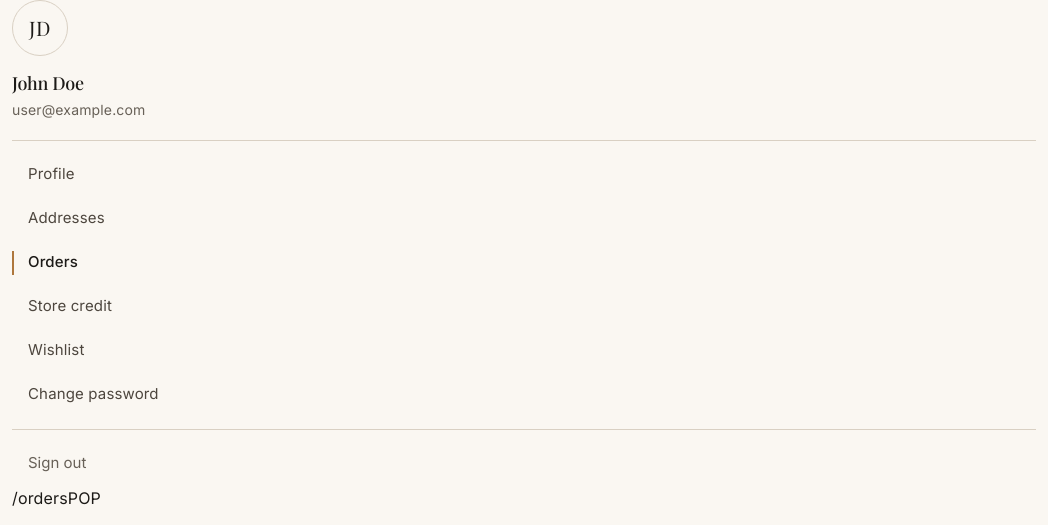
Test case: from another account page, a Profile tab is a normal navigation
This screenshot has width=1048, height=525.
Click the link "Store credit" at (70, 306), box [28,296,112,315]
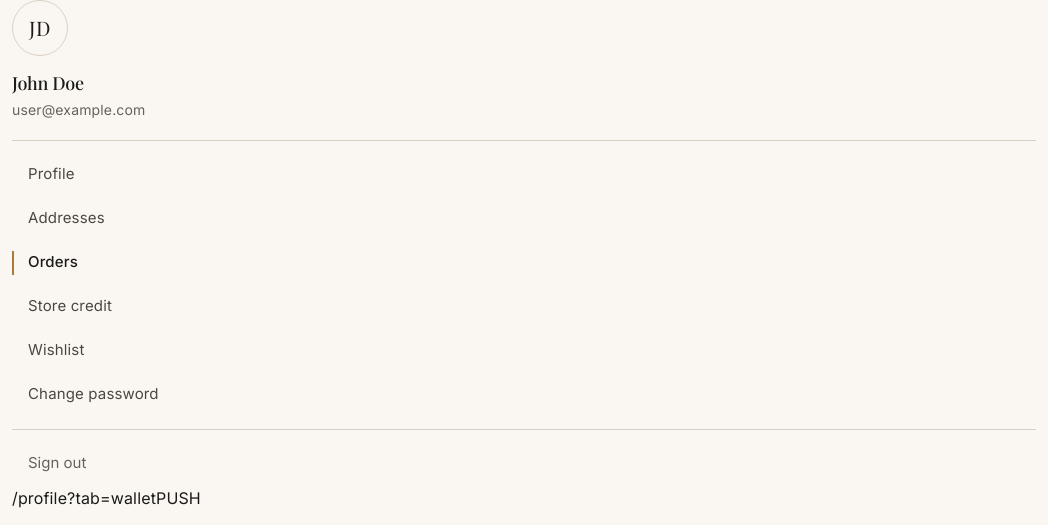
Now the text with test id "location" reads "/profile?tab=wallet", box [12,488,156,508]
Now the text with test id "navigation" reads "PUSH", box [156,488,201,508]
